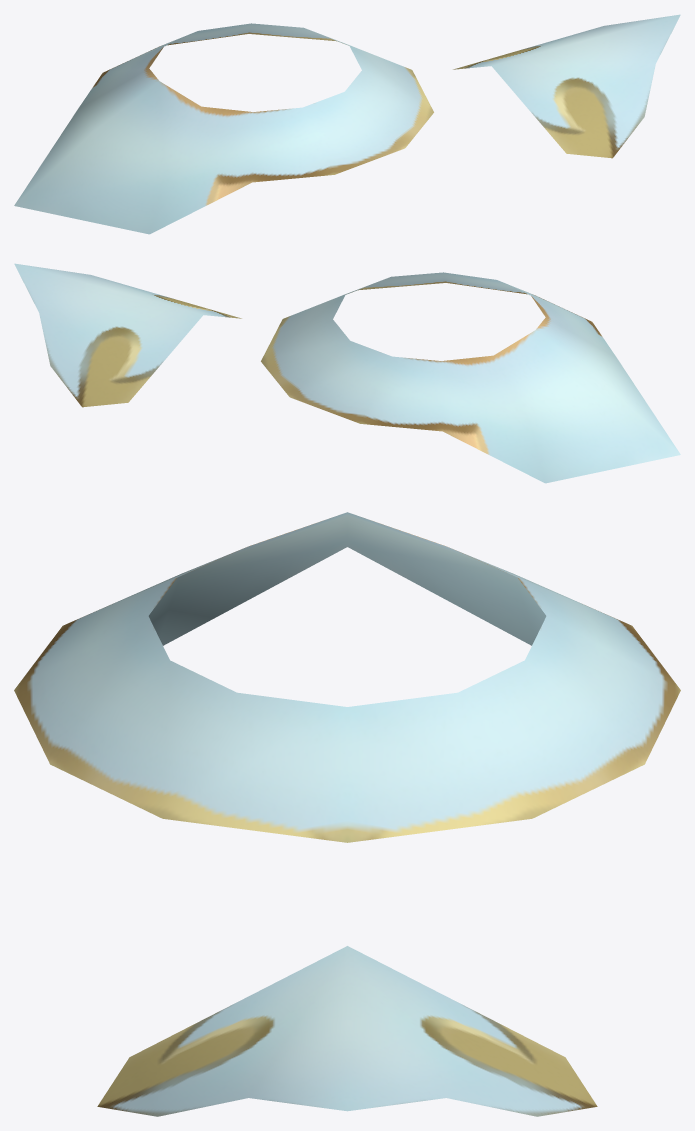
3 views of the same model, one above another, from view 1: azimuth 30°, elevation 25°; view 2: azimuth 150°, elevation 25°; view 3: azimuth 270°, elevation 25° (orthographic). The views are drawn at different scales.
Visible parts, largest first — view 1: Object001; view 2: Object001; view 3: Object001.
Boxes of the visible parts, left/top/right/bottom form: Object001: left=14, top=14, right=680, bottom=234; Object001: left=14, top=263, right=680, bottom=483; Object001: left=14, top=512, right=680, bottom=1116.
Size of the model in its own units: 16.2 by 2.87 by 7.38.
